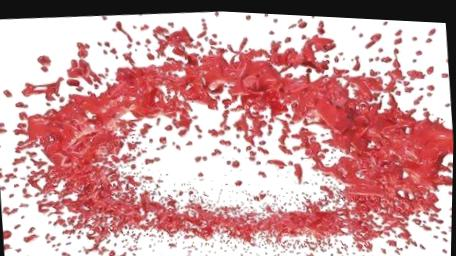Fire: (0, 9, 454, 256)
